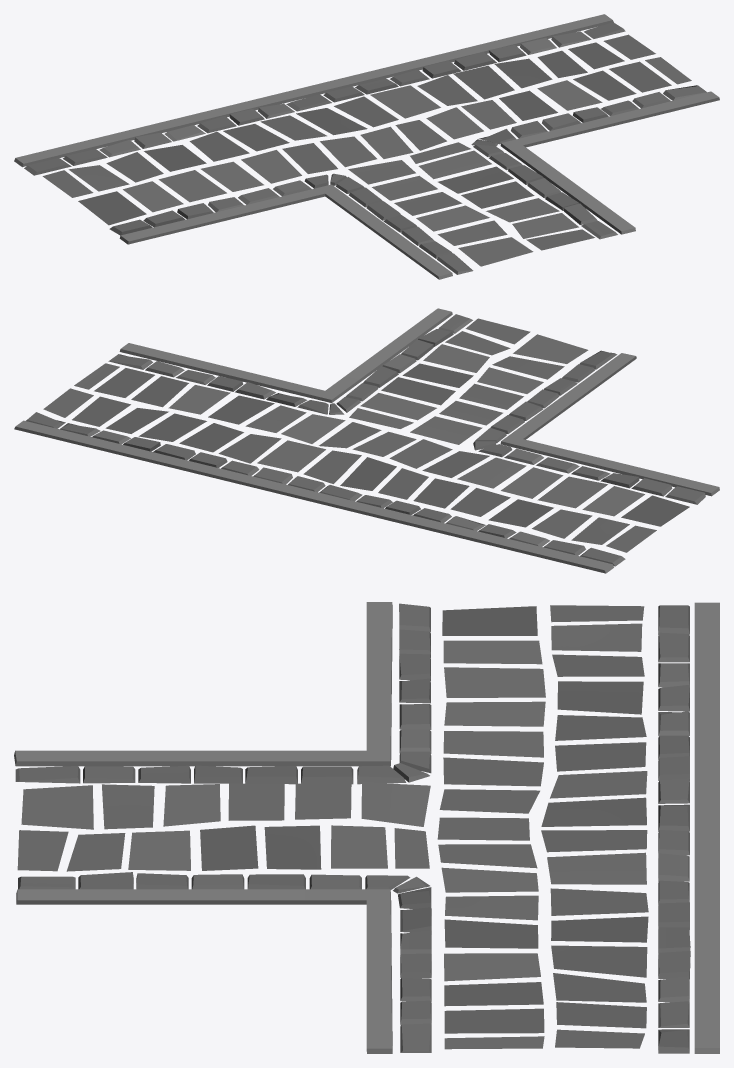
The model's file is Road Cobble T.glb.
3 renders of one model, top to bottom at view 1: azimuth 30°, elevation 25°; view 2: azimuth 150°, elevation 25°; view 3: azimuth 270°, elevation 25°, orthographic. The views are drawn at different scales.
Parts seen in each view (by area): view 1: RoadCobbleT; view 2: RoadCobbleT; view 3: RoadCobbleT.
Part boxes in pixels (x1,y1,x2,y2): RoadCobbleT: [14, 14, 719, 279]; RoadCobbleT: [14, 308, 719, 573]; RoadCobbleT: [14, 602, 719, 1053].
Size of what is drawn, in the model's own units: 6 by 0.0442 by 4.
Materials: 1 (1 with a texture image).
